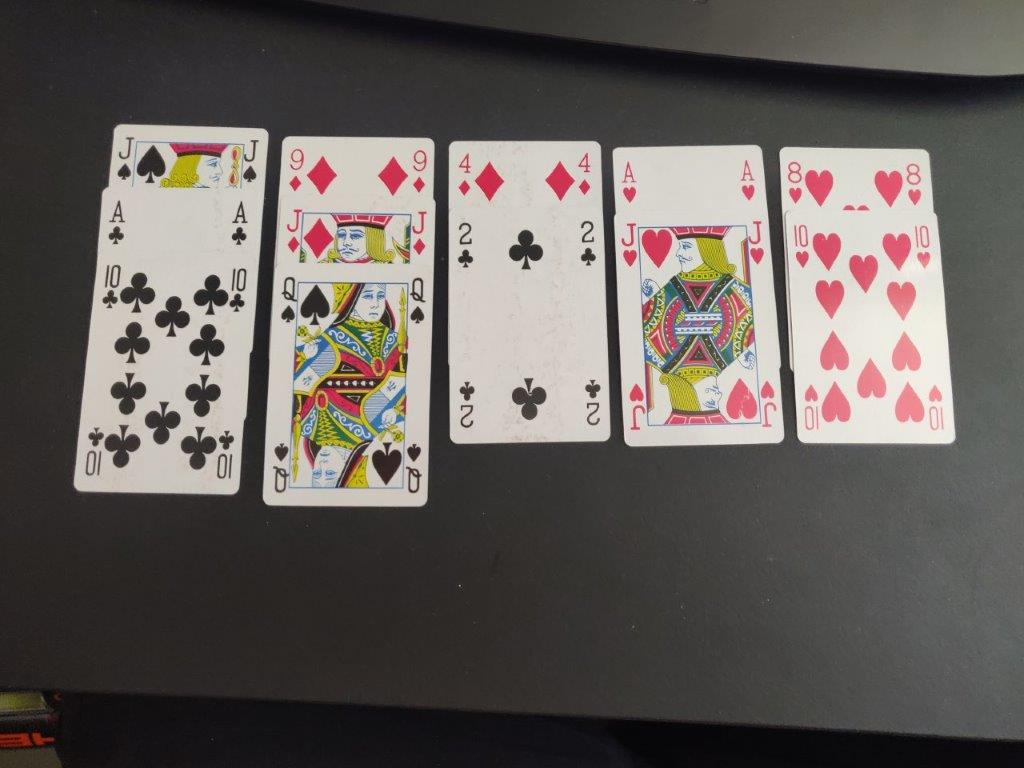10C: (98, 262, 124, 315), (226, 265, 249, 316)
10H: (910, 218, 936, 273), (789, 218, 815, 272)
2C: (454, 220, 479, 272), (578, 217, 599, 269)
4D: (575, 147, 594, 199), (454, 151, 474, 200)
8H: (901, 161, 928, 209), (784, 159, 806, 208)
9D: (409, 146, 430, 198), (286, 147, 306, 195)
AC: (224, 196, 250, 250), (105, 197, 130, 252)
AH: (617, 157, 641, 208), (738, 154, 759, 205)
JD: (280, 207, 306, 257), (409, 208, 431, 260)
JH: (616, 220, 642, 269), (745, 218, 769, 268)
JS: (239, 136, 262, 189), (113, 135, 135, 182)
QS: (277, 274, 302, 328), (408, 274, 429, 330)
